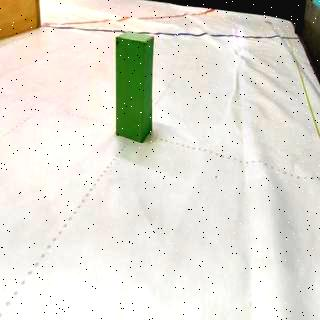greenbox: (113, 30, 155, 144)
